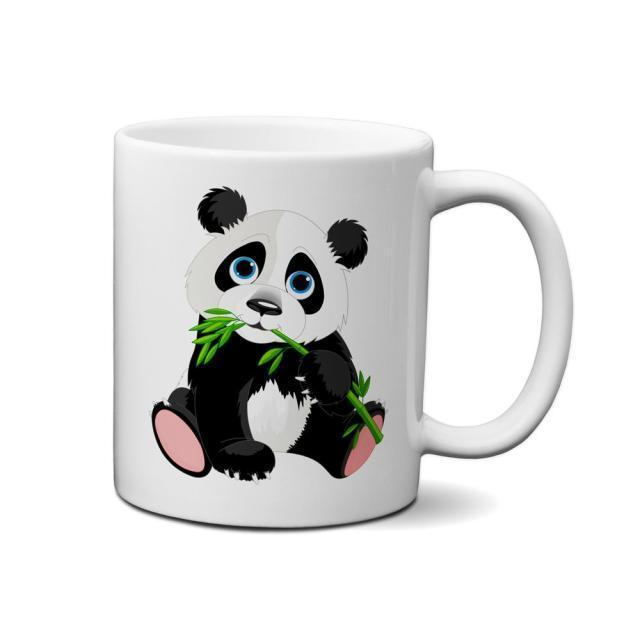taza: (113, 115, 576, 534)
